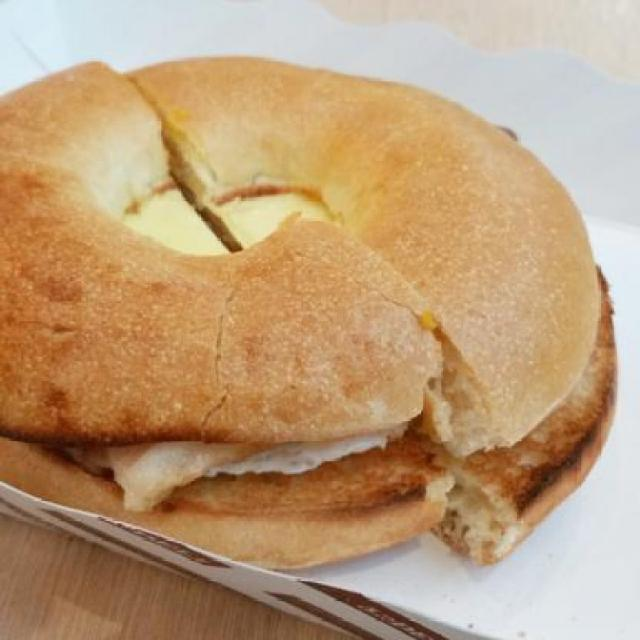Bagel: (0, 46, 620, 566)
